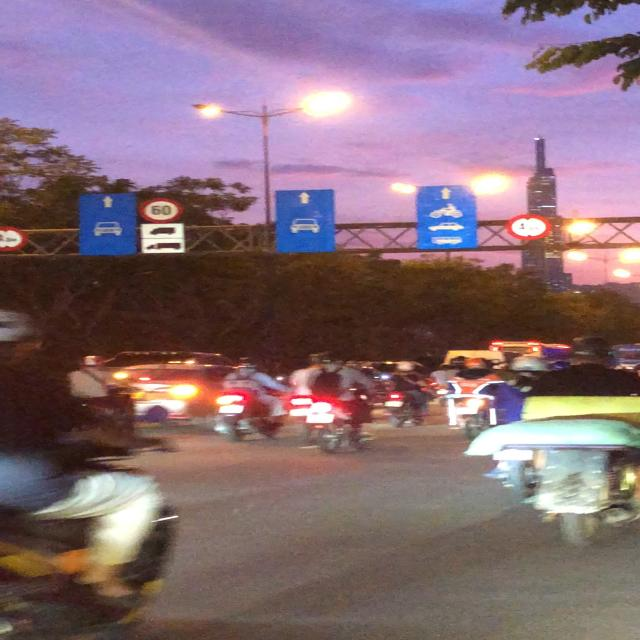Bien bao han che chieu cao: (503, 209, 557, 245)
Bien bao toc do toi da cho phep: (132, 195, 186, 224)
